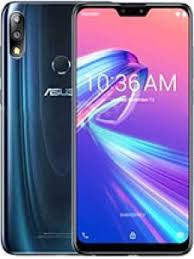asus: (67, 1, 194, 255), (1, 1, 80, 258)
